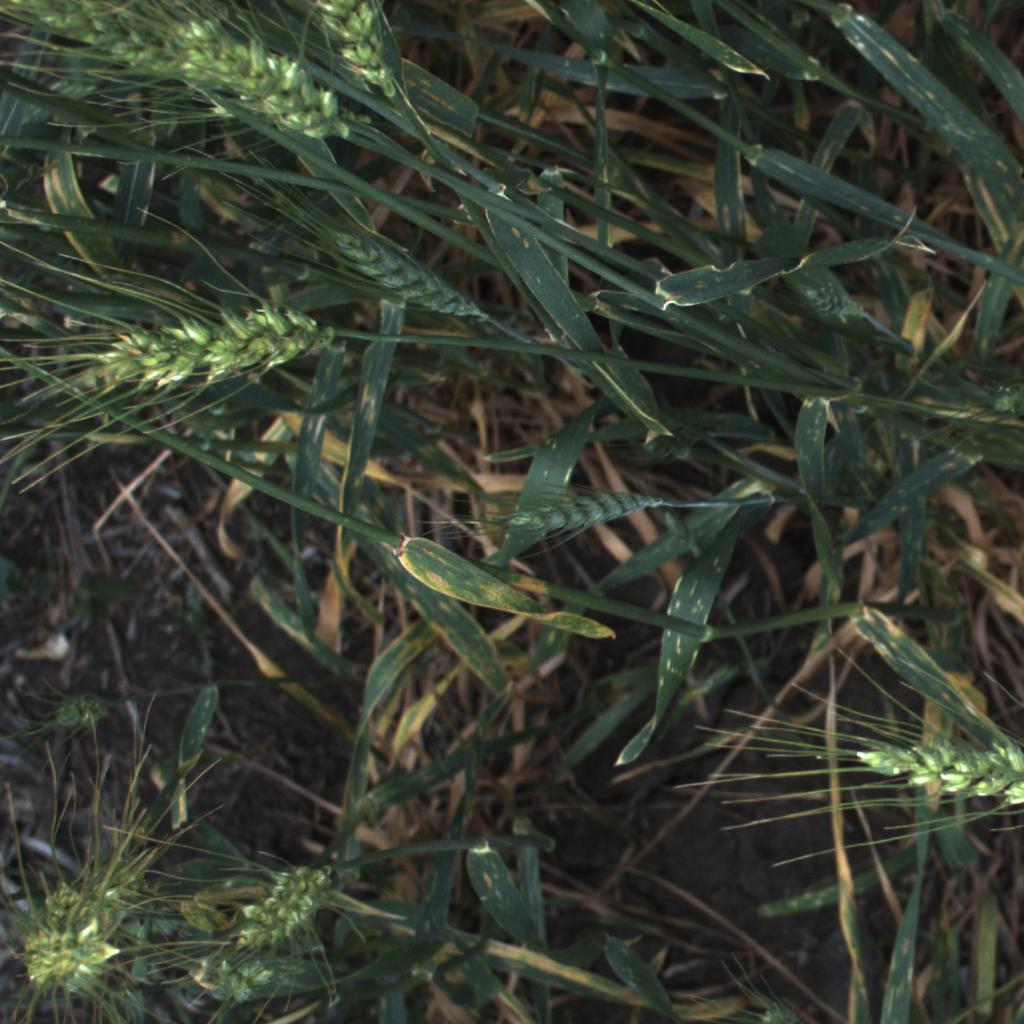0-0: (43, 279, 332, 406), (848, 720, 1024, 834), (309, 208, 482, 320), (235, 0, 423, 86), (177, 44, 343, 138), (229, 857, 346, 949), (30, 886, 123, 987), (36, 5, 169, 69), (502, 494, 646, 534), (189, 959, 274, 1001), (794, 281, 869, 321), (984, 380, 1021, 420)
